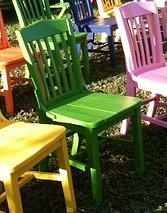obstacle: (16, 18, 143, 204)
